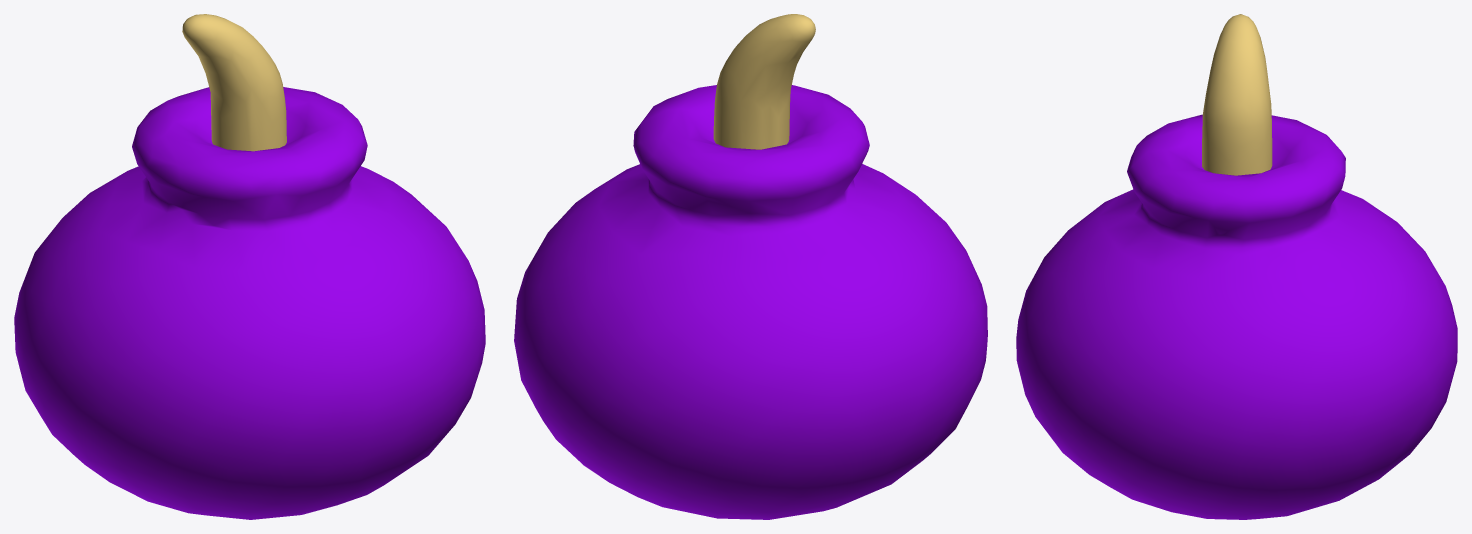
File: Bomb.fbx
3 views of the same model, side by side, from view 1: azimuth 30°, elevation 25°; view 2: azimuth 150°, elevation 25°; view 3: azimuth 270°, elevation 25° (orthographic). The views are drawn at different scales.
Parts seen in each view (by area): view 1: Rope; view 2: Rope; view 3: Rope.
Boxes of the visible parts, bbox=[...] form: Rope: bbox=[14, 14, 485, 519]; Rope: bbox=[514, 14, 987, 519]; Rope: bbox=[1016, 14, 1457, 519].
Size of the model in its own units: 198 by 224 by 197.
